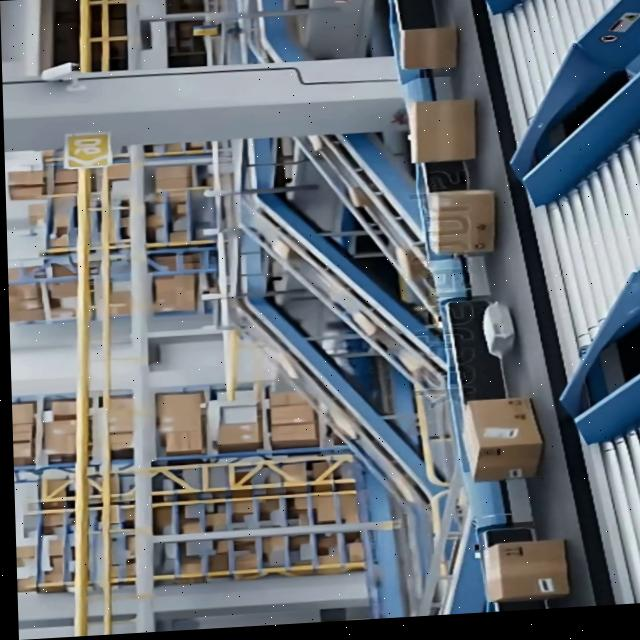product 1: (426, 186, 498, 255), (461, 394, 544, 453), (407, 96, 478, 163), (400, 42, 458, 70)
product 2: (480, 300, 517, 358)
